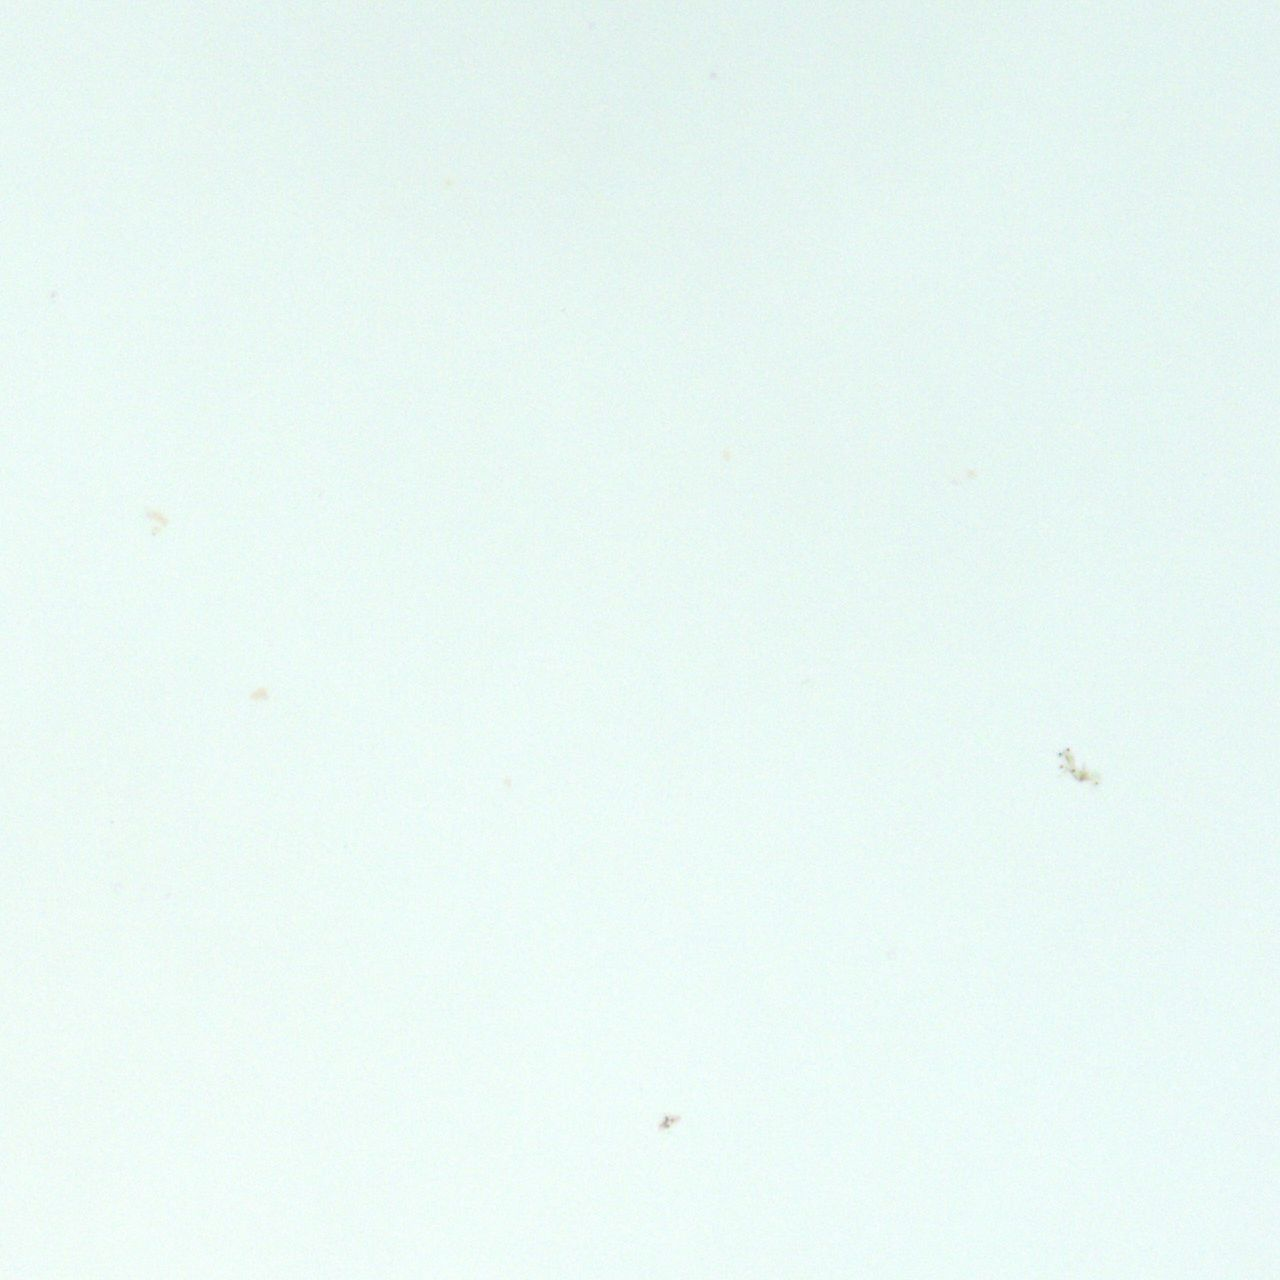dust: (661, 1114, 671, 1128), (1057, 751, 1062, 757), (1095, 781, 1100, 786), (1059, 764, 1063, 770), (1072, 768, 1076, 772), (1066, 747, 1069, 752)
